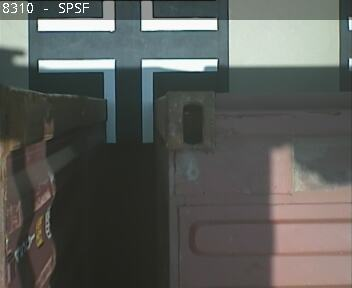groundmarker_1: (36, 58, 219, 146)
